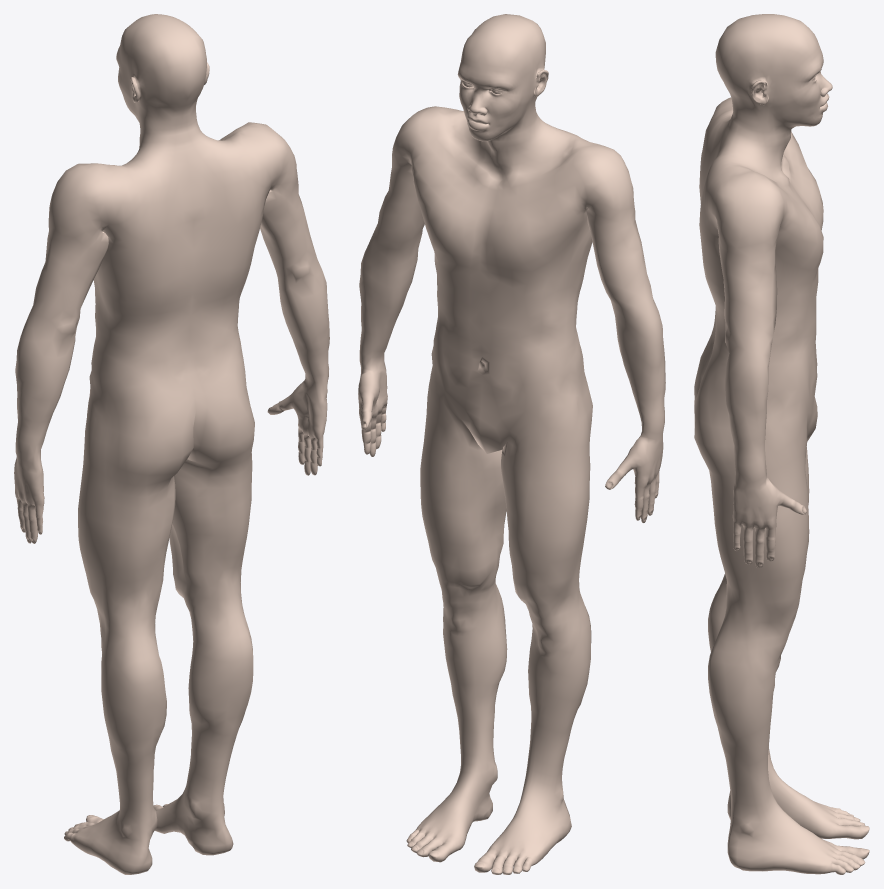
The model's file is PATIENT_ExternalBody.fbx.
3 views of the same model, side by side, from view 1: azimuth 30°, elevation 25°; view 2: azimuth 150°, elevation 25°; view 3: azimuth 270°, elevation 25° (orthographic). The views are drawn at different scales.
Parts seen in each view (by area): view 1: PATIENT_ExternalBody; view 2: PATIENT_ExternalBody; view 3: PATIENT_ExternalBody.
Boxes of the visible parts, left/top/right/bottom form: PATIENT_ExternalBody: left=14, top=14, right=329, bottom=874; PATIENT_ExternalBody: left=358, top=14, right=665, bottom=874; PATIENT_ExternalBody: left=694, top=14, right=869, bottom=874.
Bounding box in the file's own units: 68.54 × 177 × 33.84.
